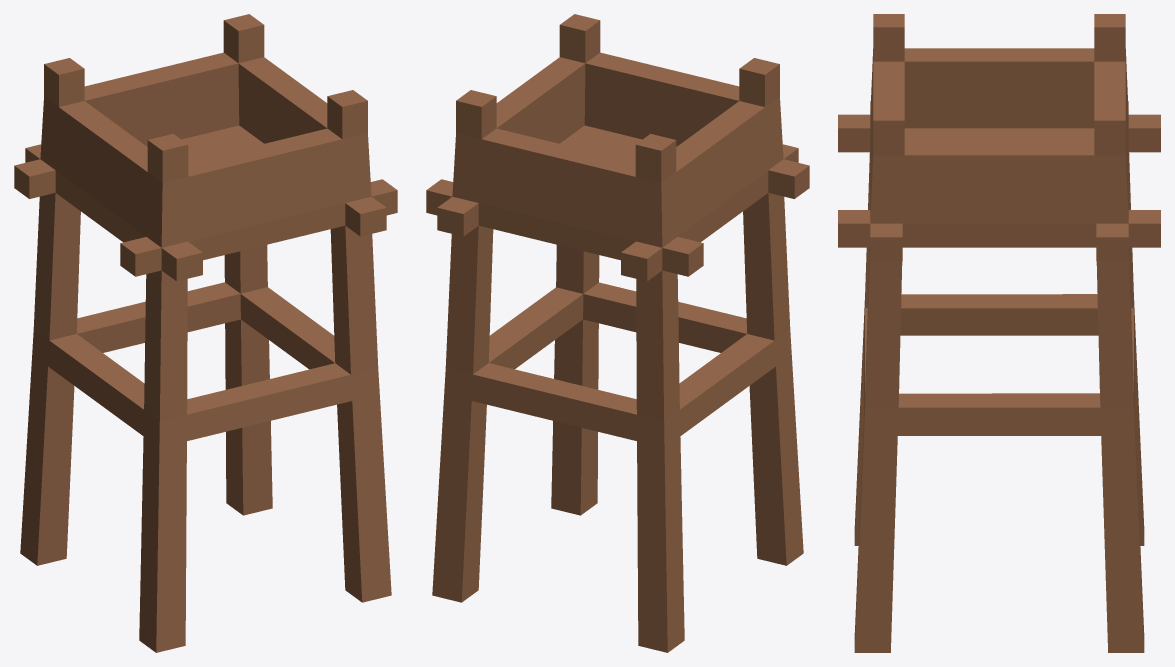
Rendered from tower_lvl1.fbx.
3 renders of one model, left to right at view 1: azimuth 30°, elevation 25°; view 2: azimuth 150°, elevation 25°; view 3: azimuth 270°, elevation 25°, orthographic. The views are drawn at different scales.
Visible parts, largest first — view 1: Cube.022; view 2: Cube.022; view 3: Cube.022.
Boxes of the visible parts, left/top/right/bottom form: Cube.022: left=14, top=14, right=397, bottom=652; Cube.022: left=426, top=14, right=809, bottom=652; Cube.022: left=838, top=14, right=1160, bottom=652.
Bounding box in the file's own units: 149 × 268 × 149.
